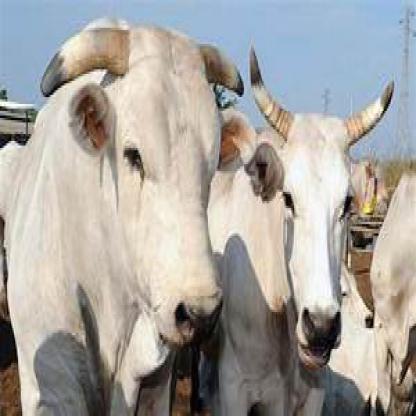cow: (0, 19, 244, 414), (215, 44, 399, 414)
